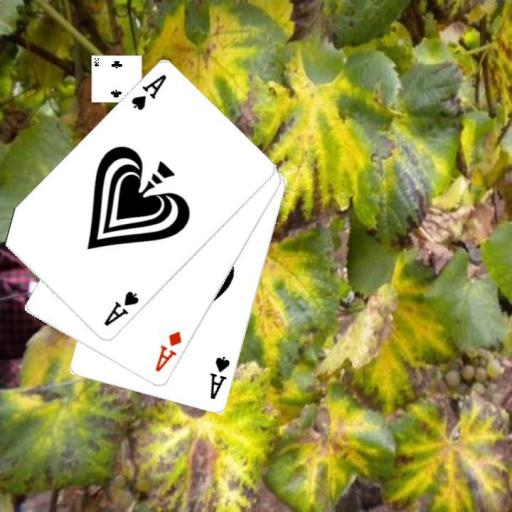AD: (152, 328, 184, 374)
AS: (128, 71, 169, 113), (100, 288, 141, 329), (207, 353, 232, 402)
